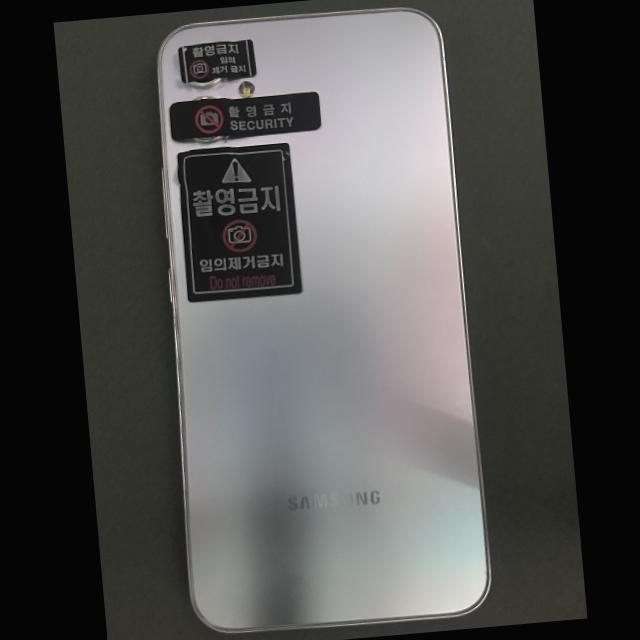lens: (188, 78, 224, 88), (191, 136, 223, 143)
phone: (159, 9, 490, 631)
sticker: (178, 144, 302, 301), (171, 92, 321, 140), (179, 41, 256, 82)
